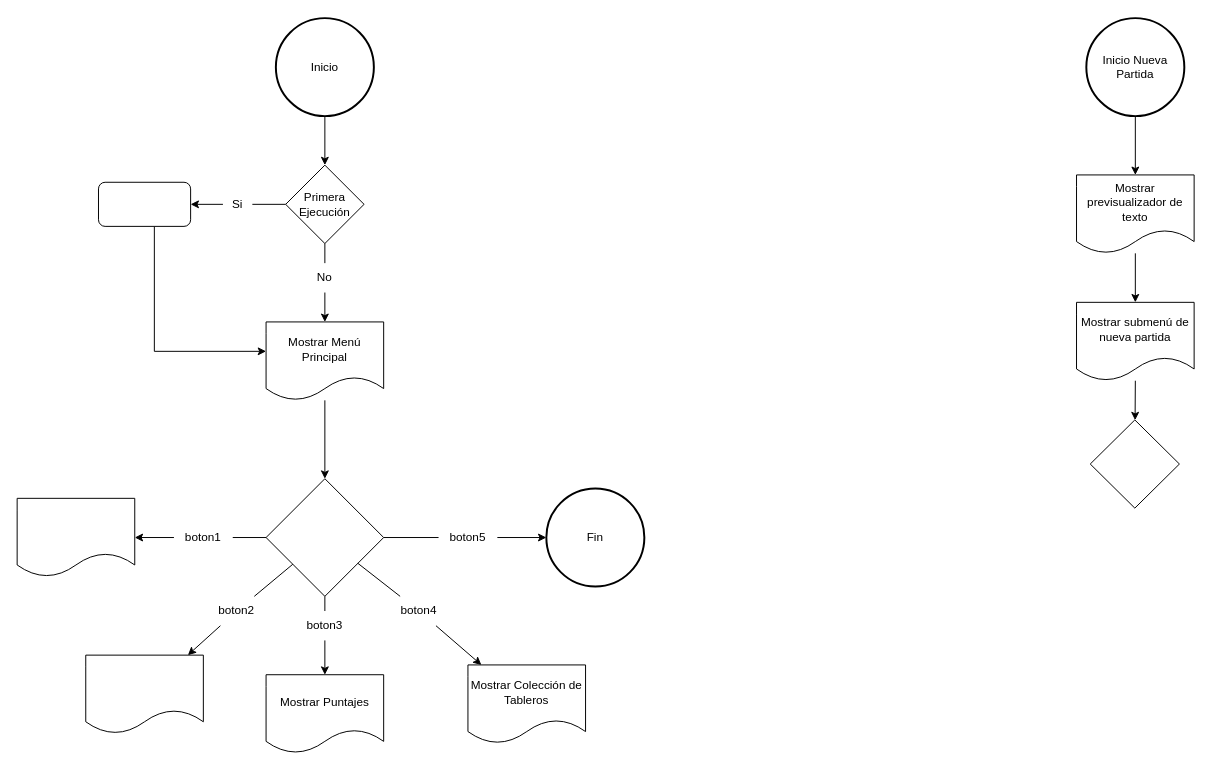
Some shapes in this 1211 by 770 pixel diagram are drawn without their labels. Here are the shapes that lost their labels. From the top down, the centre of each, then its label:
pixel 144 203: Deshabilitar boton1
pixel 1134 463: Ociones de submenú
pixel 75 537: Mostrar opciones de Inicio de Partida
pixel 324 537: Acción de click en botón
pixel 144 694: Mostrar opciones de Nueva Partida
